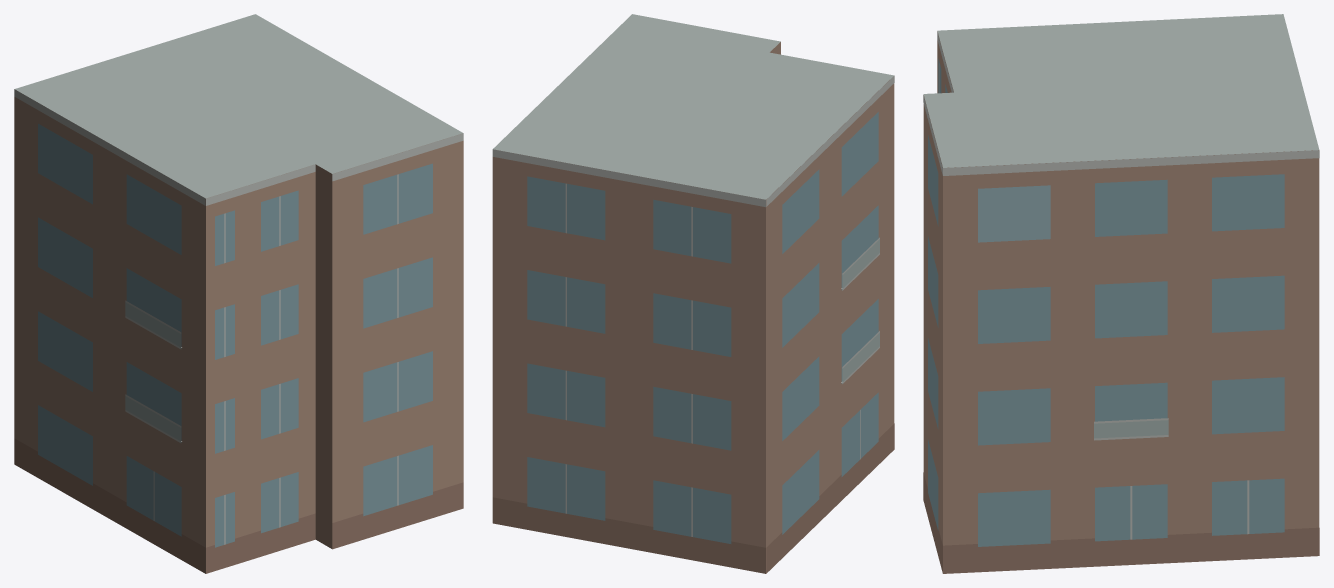
Rendered from residential-5337281a-75e0-4b28-8857-c13771240fe3.glb.
3 renders of one model, left to right at view 1: azimuth 30°, elevation 25°; view 2: azimuth 150°, elevation 25°; view 3: azimuth 270°, elevation 25°, orthographic. The views are drawn at different scales.
Parts seen in each view (by area): view 1: residential-5337281a-75e0-4b28-8857-c13771240fe3.tmp; view 2: residential-5337281a-75e0-4b28-8857-c13771240fe3.tmp; view 3: residential-5337281a-75e0-4b28-8857-c13771240fe3.tmp.
Boxes of the visible parts, bbox=[...] form: residential-5337281a-75e0-4b28-8857-c13771240fe3.tmp: bbox=[14, 14, 463, 573]; residential-5337281a-75e0-4b28-8857-c13771240fe3.tmp: bbox=[492, 14, 894, 573]; residential-5337281a-75e0-4b28-8857-c13771240fe3.tmp: bbox=[923, 14, 1319, 573].
Size of the model in its own units: 9.93 by 12.2 by 10.8.
